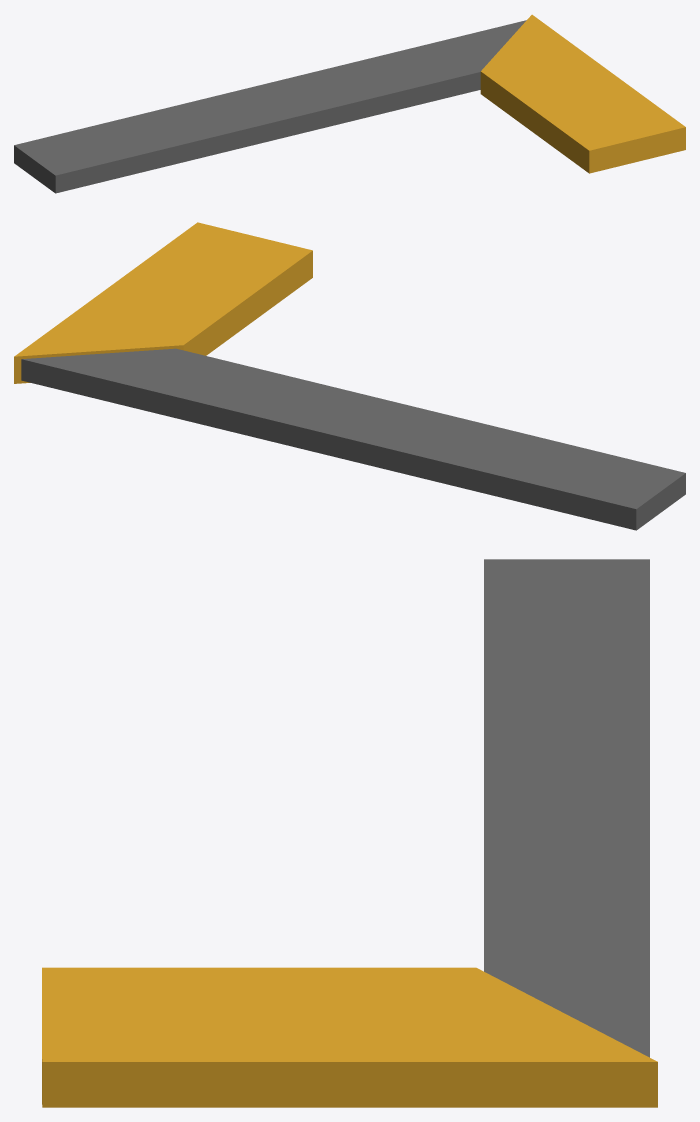
3 renders of one model, top to bottom at view 1: azimuth 30°, elevation 25°; view 2: azimuth 150°, elevation 25°; view 3: azimuth 270°, elevation 25°, orthographic. The views are drawn at different scales.
Visible parts, largest first — view 1: F-23; view 2: F-23; view 3: F-23.
Part boxes in pixels (left/top/right/bottom): F-23: left=14, top=14, right=685, bottom=193; F-23: left=14, top=222, right=685, bottom=530; F-23: left=42, top=559, right=657, bottom=1107.
Size of the model in its own units: 121 by 5.07 by 61.97.
